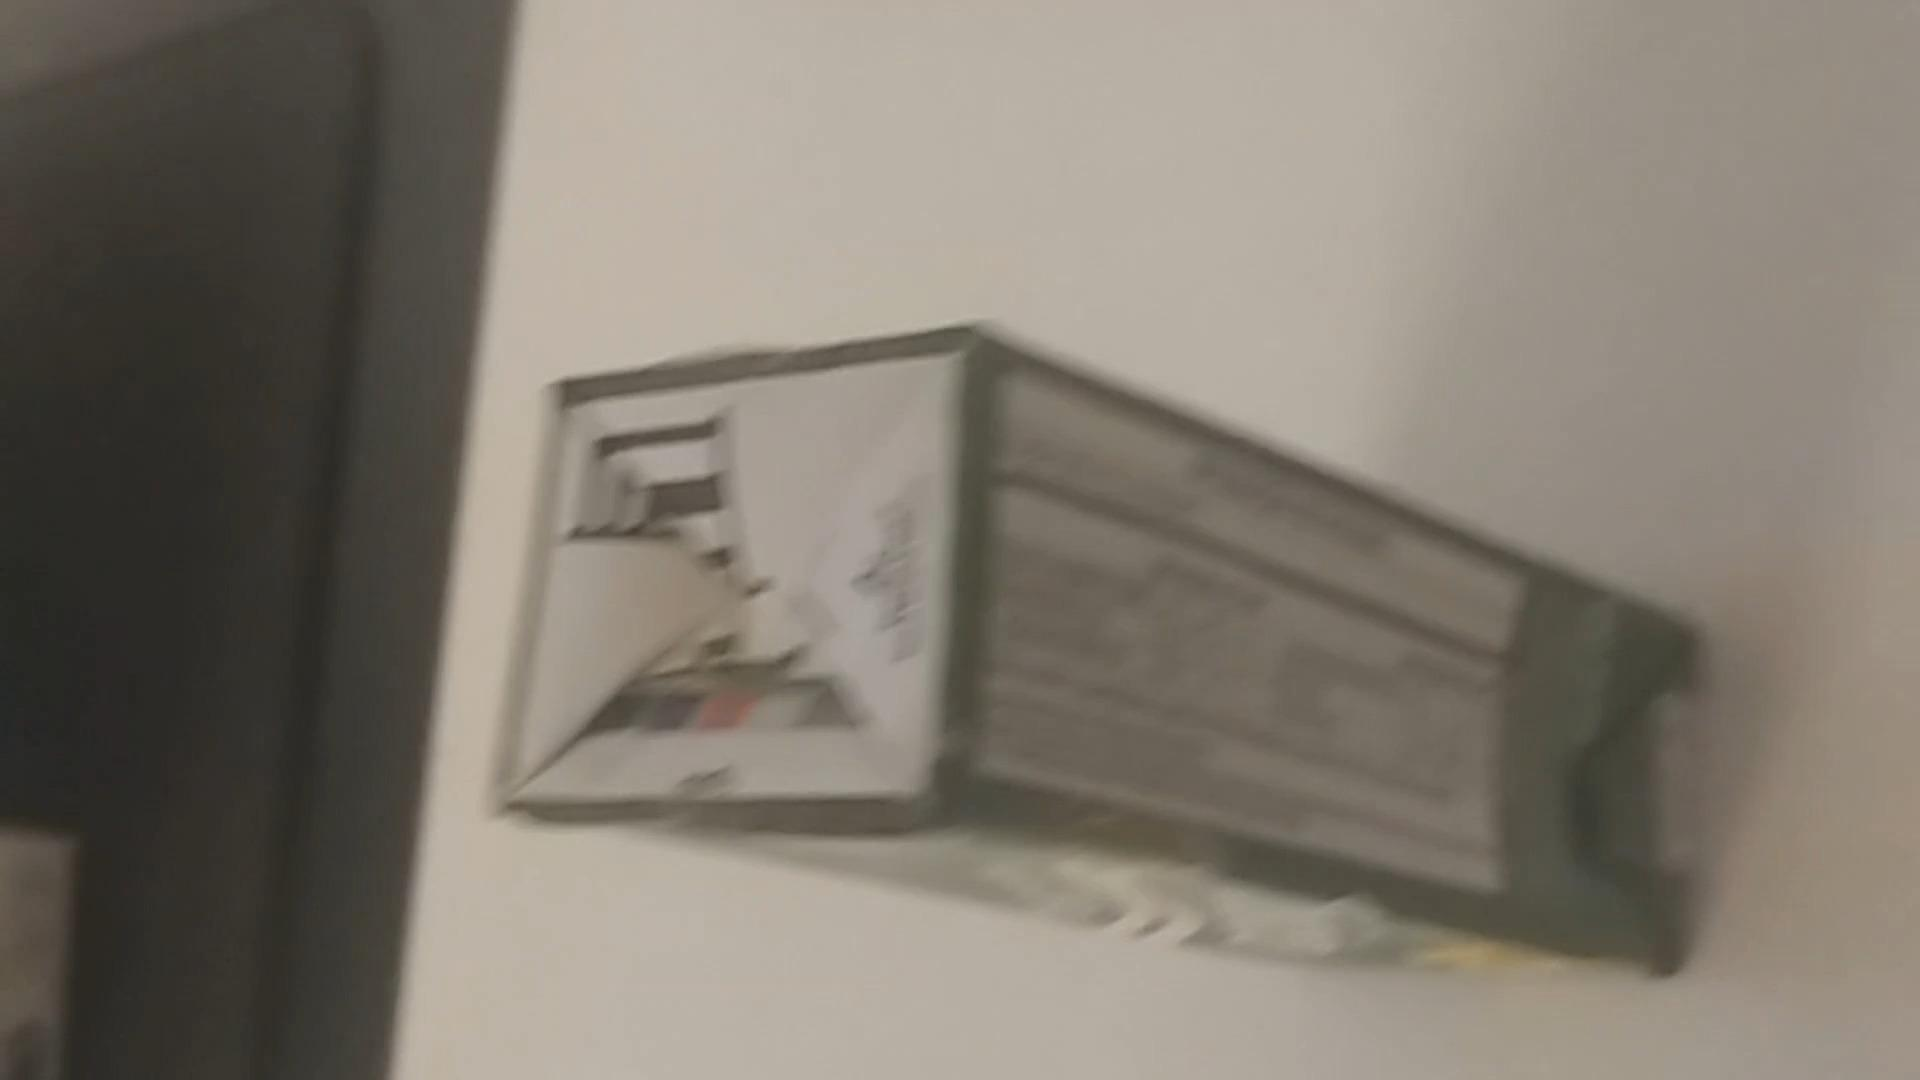coco: (488, 307, 1720, 1005)
